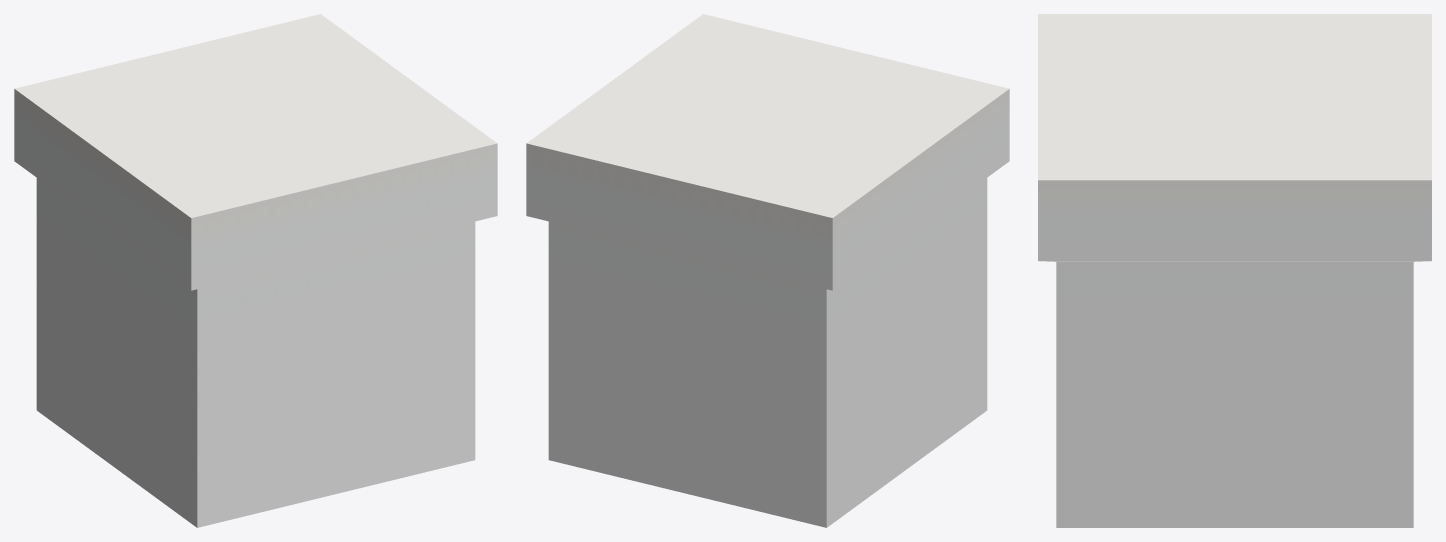
Rendered from GeloBloco.glb.
The picture shows the model from 3 angles, left to right: view 1: azimuth 30°, elevation 25°; view 2: azimuth 150°, elevation 25°; view 3: azimuth 270°, elevation 25°; orthographic projection. The views are drawn at different scales.
Parts seen in each view (by area): view 1: GeloBloco; view 2: GeloBloco; view 3: GeloBloco.
Part boxes in pixels (x1=…): GeloBloco: x1=14, y1=14, x2=497, y2=527; GeloBloco: x1=526, y1=14, x2=1009, y2=527; GeloBloco: x1=1038, y1=14, x2=1431, y2=527.
Size of the model in its own units: 2 by 1.99 by 2.
1 material, 1 textured.
